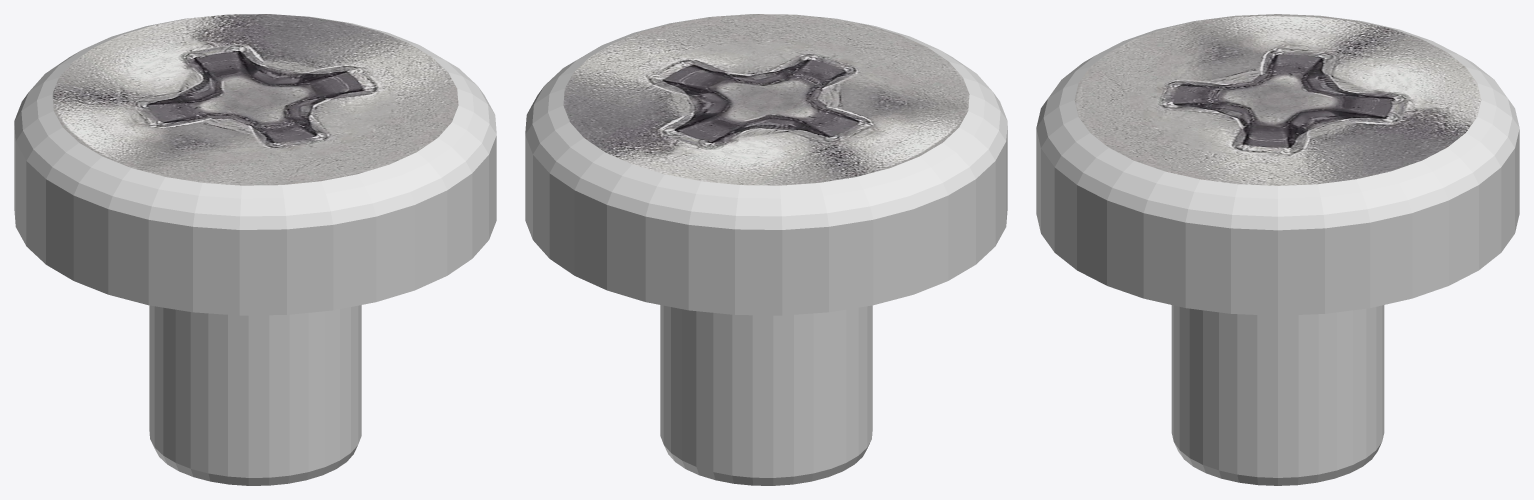
Rendered from vis.fbx.
3 renders of one model, left to right at view 1: azimuth 30°, elevation 25°; view 2: azimuth 150°, elevation 25°; view 3: azimuth 270°, elevation 25°, orthographic.
Visible parts, largest first — view 1: Cylinder.001, Cylinder; view 2: Cylinder.001, Cylinder; view 3: Cylinder.001, Cylinder.
Part boxes in pixels (x1,y1,x2,y2): Cylinder.001: (14, 14, 496, 315); Cylinder: (149, 305, 361, 485); Cylinder.001: (525, 14, 1007, 315); Cylinder: (660, 305, 872, 485); Cylinder.001: (1036, 14, 1519, 315); Cylinder: (1171, 305, 1384, 485).
Bounding box in the file's own units: 139 × 110 × 139.
